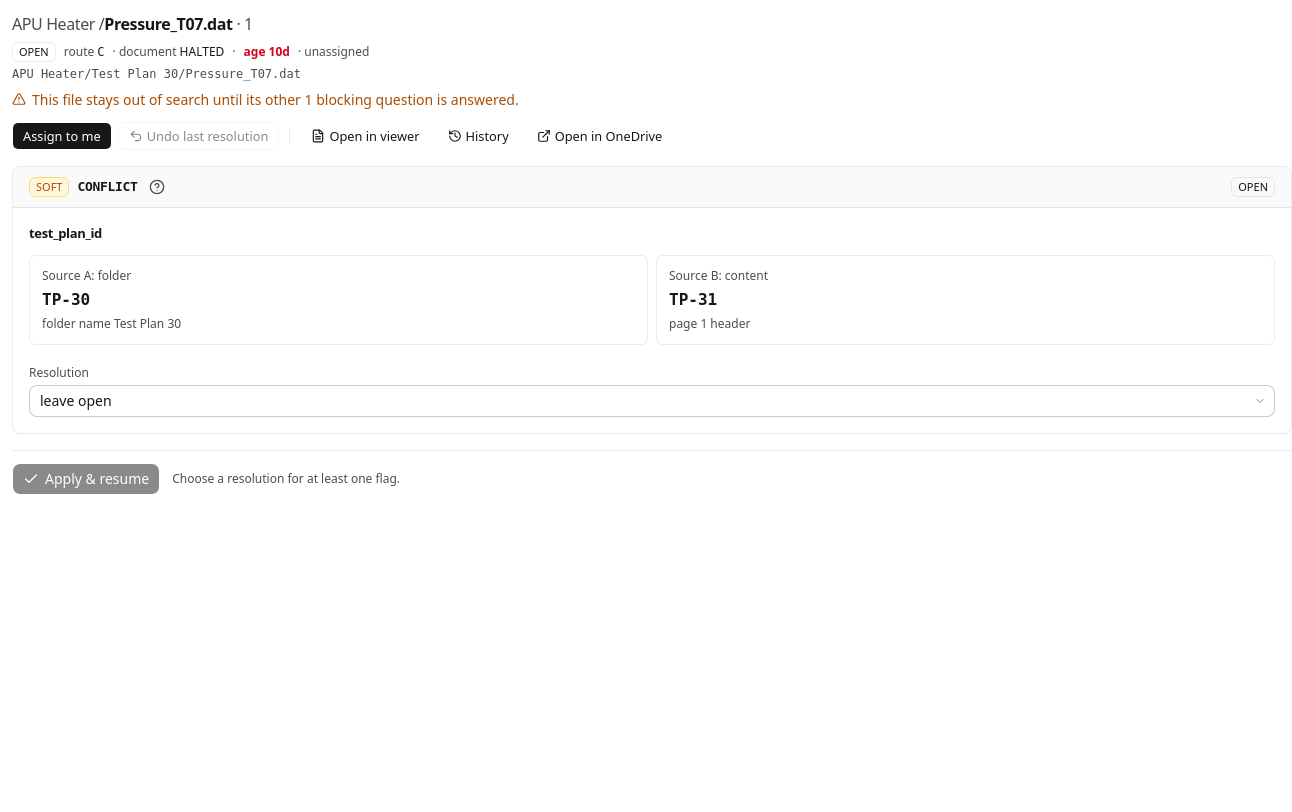
Test case: Make a rule from this decision › follows the fields: a cleared subject widens the rule, and the count is asked again
Select "Ignore" in the dropdown labelled "Resolution" at (652, 401), box [29,385,1275,417]
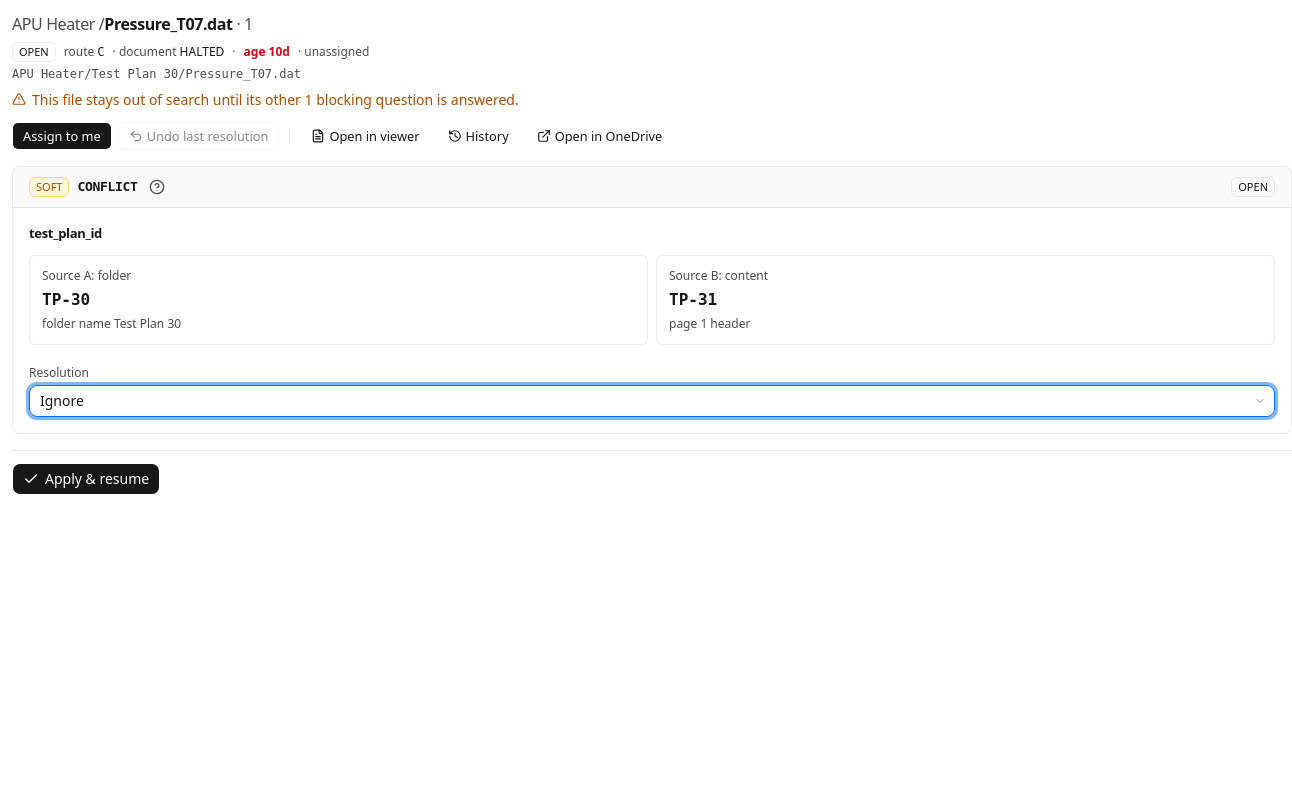
Click the button "Apply & resume" at (86, 479), box [12,463,160,495]
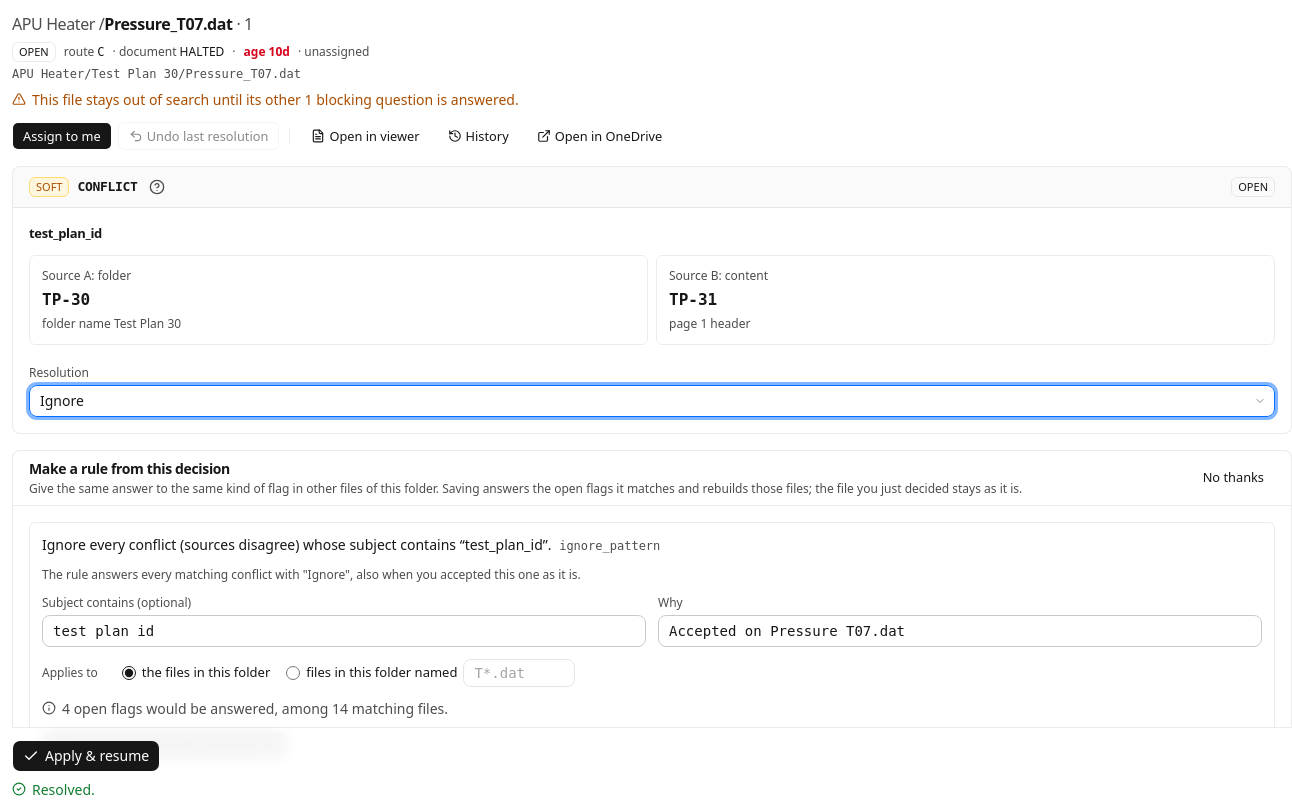
Now the text "4 open flags would be answered, among 14 matching files." is shown, box [62,699,448,719]
Clear the field labelled "Subject contains (optional)" at (344, 631), box [42,615,646,647]
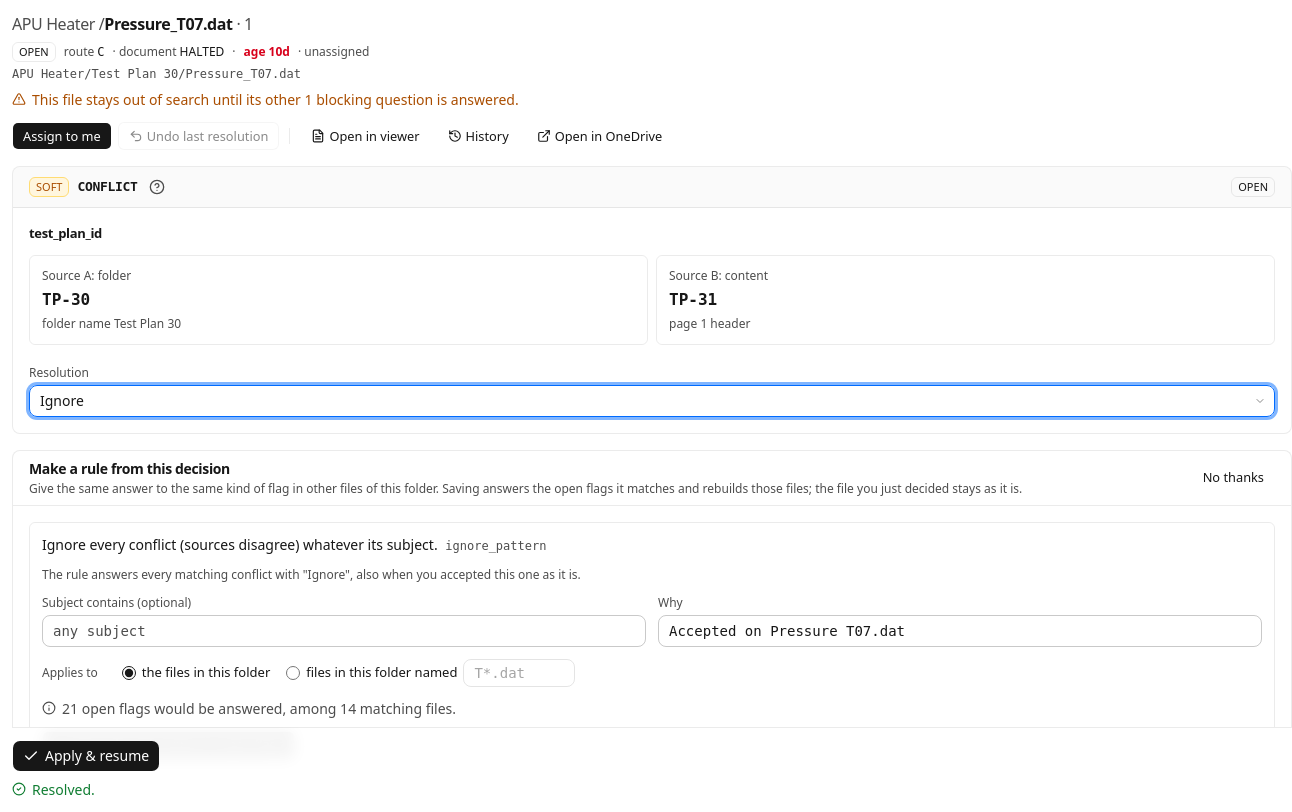
Now the text "21 open flags would be answered, among 14 matching files." is shown, box [62,699,456,719]
Now the text "whatever its subject" is shown, box [42,535,441,554]
